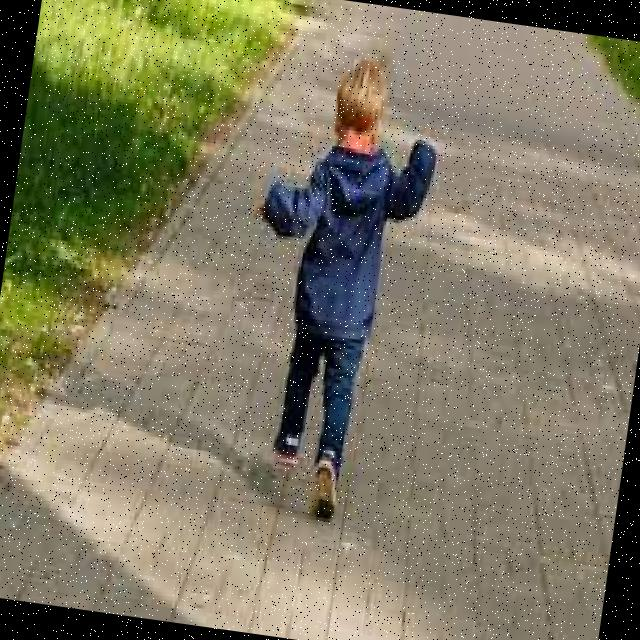Person: (214, 45, 451, 532)
